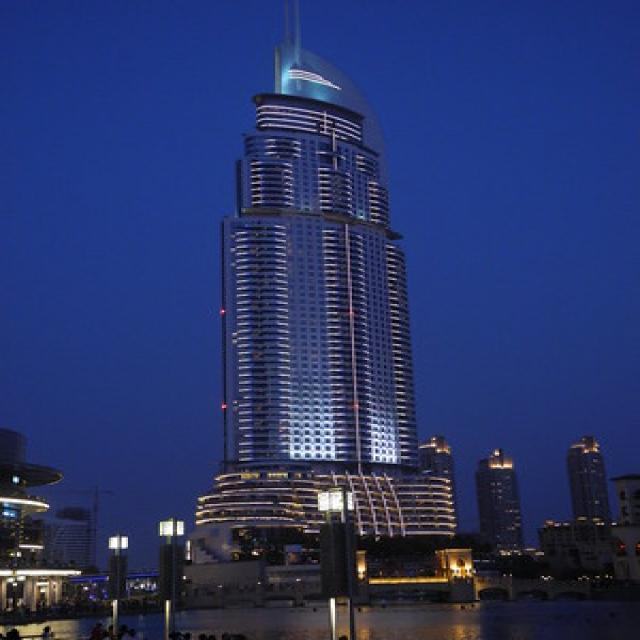Normal_building: (177, 35, 465, 630)
